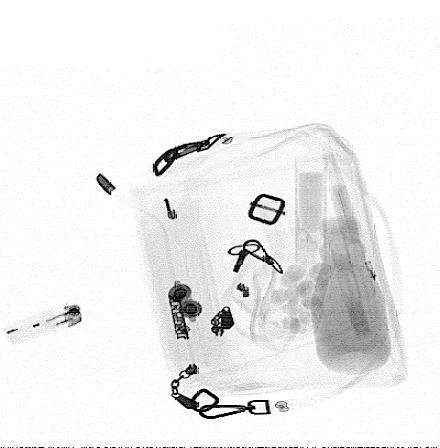Lighter: (3, 303, 83, 348)
